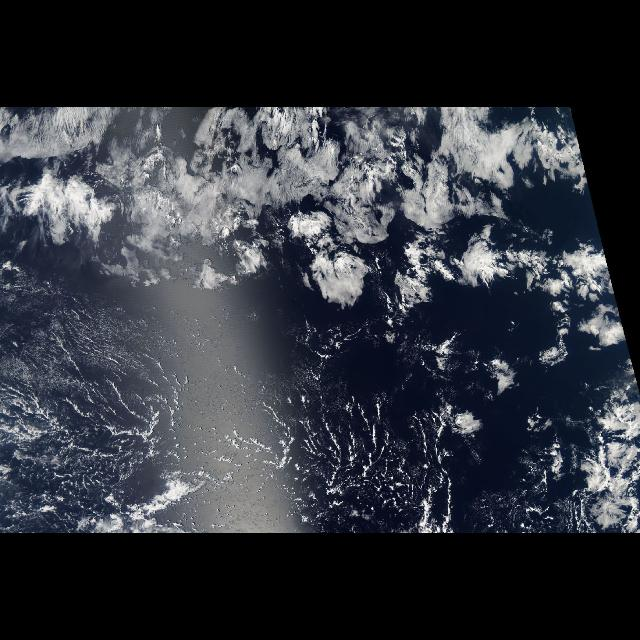Flower: (6, 108, 636, 384)
Gravel: (242, 358, 538, 532)
Sugar: (51, 400, 422, 522), (30, 306, 224, 398)
